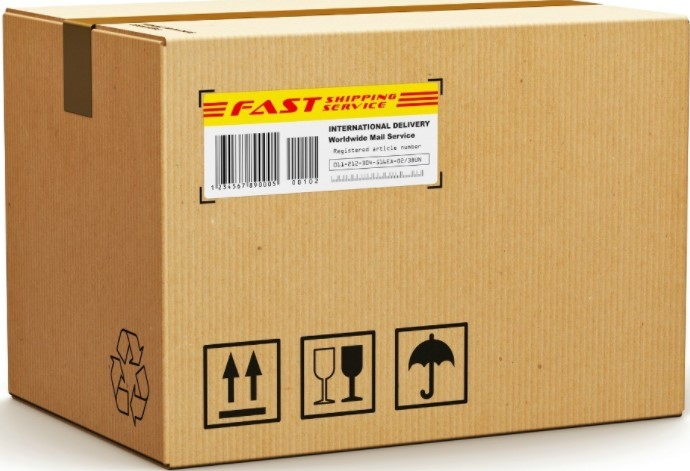stock: (2, 2, 688, 467)
